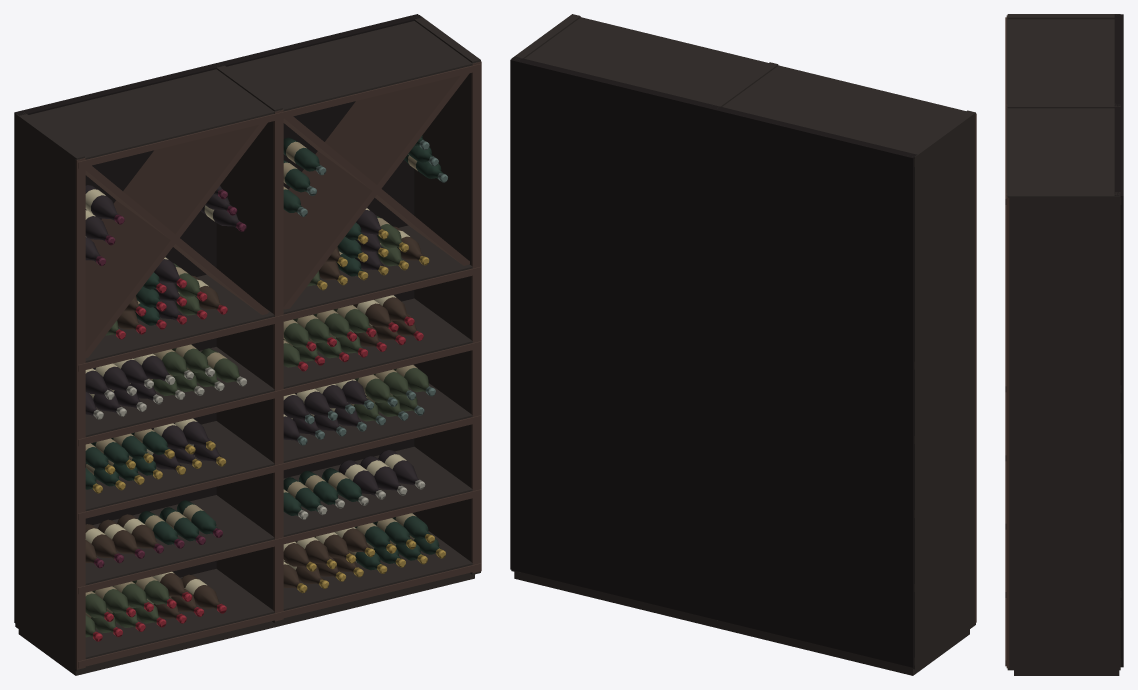
The model's file is rack.glb.
3 views of the same model, side by side, from view 1: azimuth 30°, elevation 25°; view 2: azimuth 150°, elevation 25°; view 3: azimuth 270°, elevation 25° (orthographic). The views are drawn at different scales.
Visible parts, largest first — view 1: Surface; view 2: Surface; view 3: Surface.
Boxes of the visible parts, x1,y1,x2,y2 form: Surface: [14, 14, 481, 675]; Surface: [510, 14, 976, 675]; Surface: [1005, 14, 1123, 675].
Bounding box in the file's own units: 1.97 × 2.42 × 0.5378.
